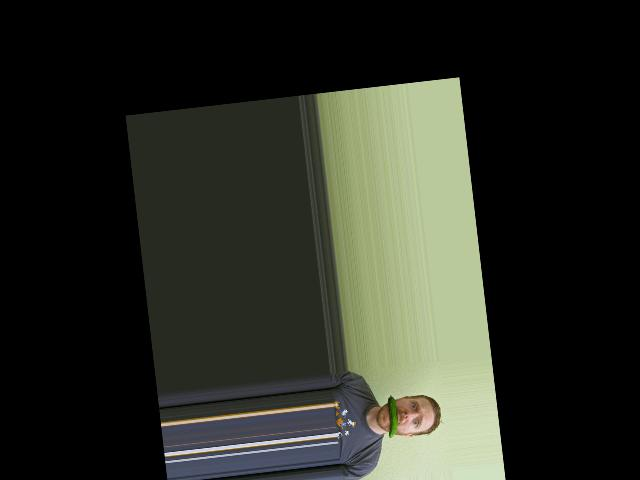cucumber: (384, 394, 399, 438)
